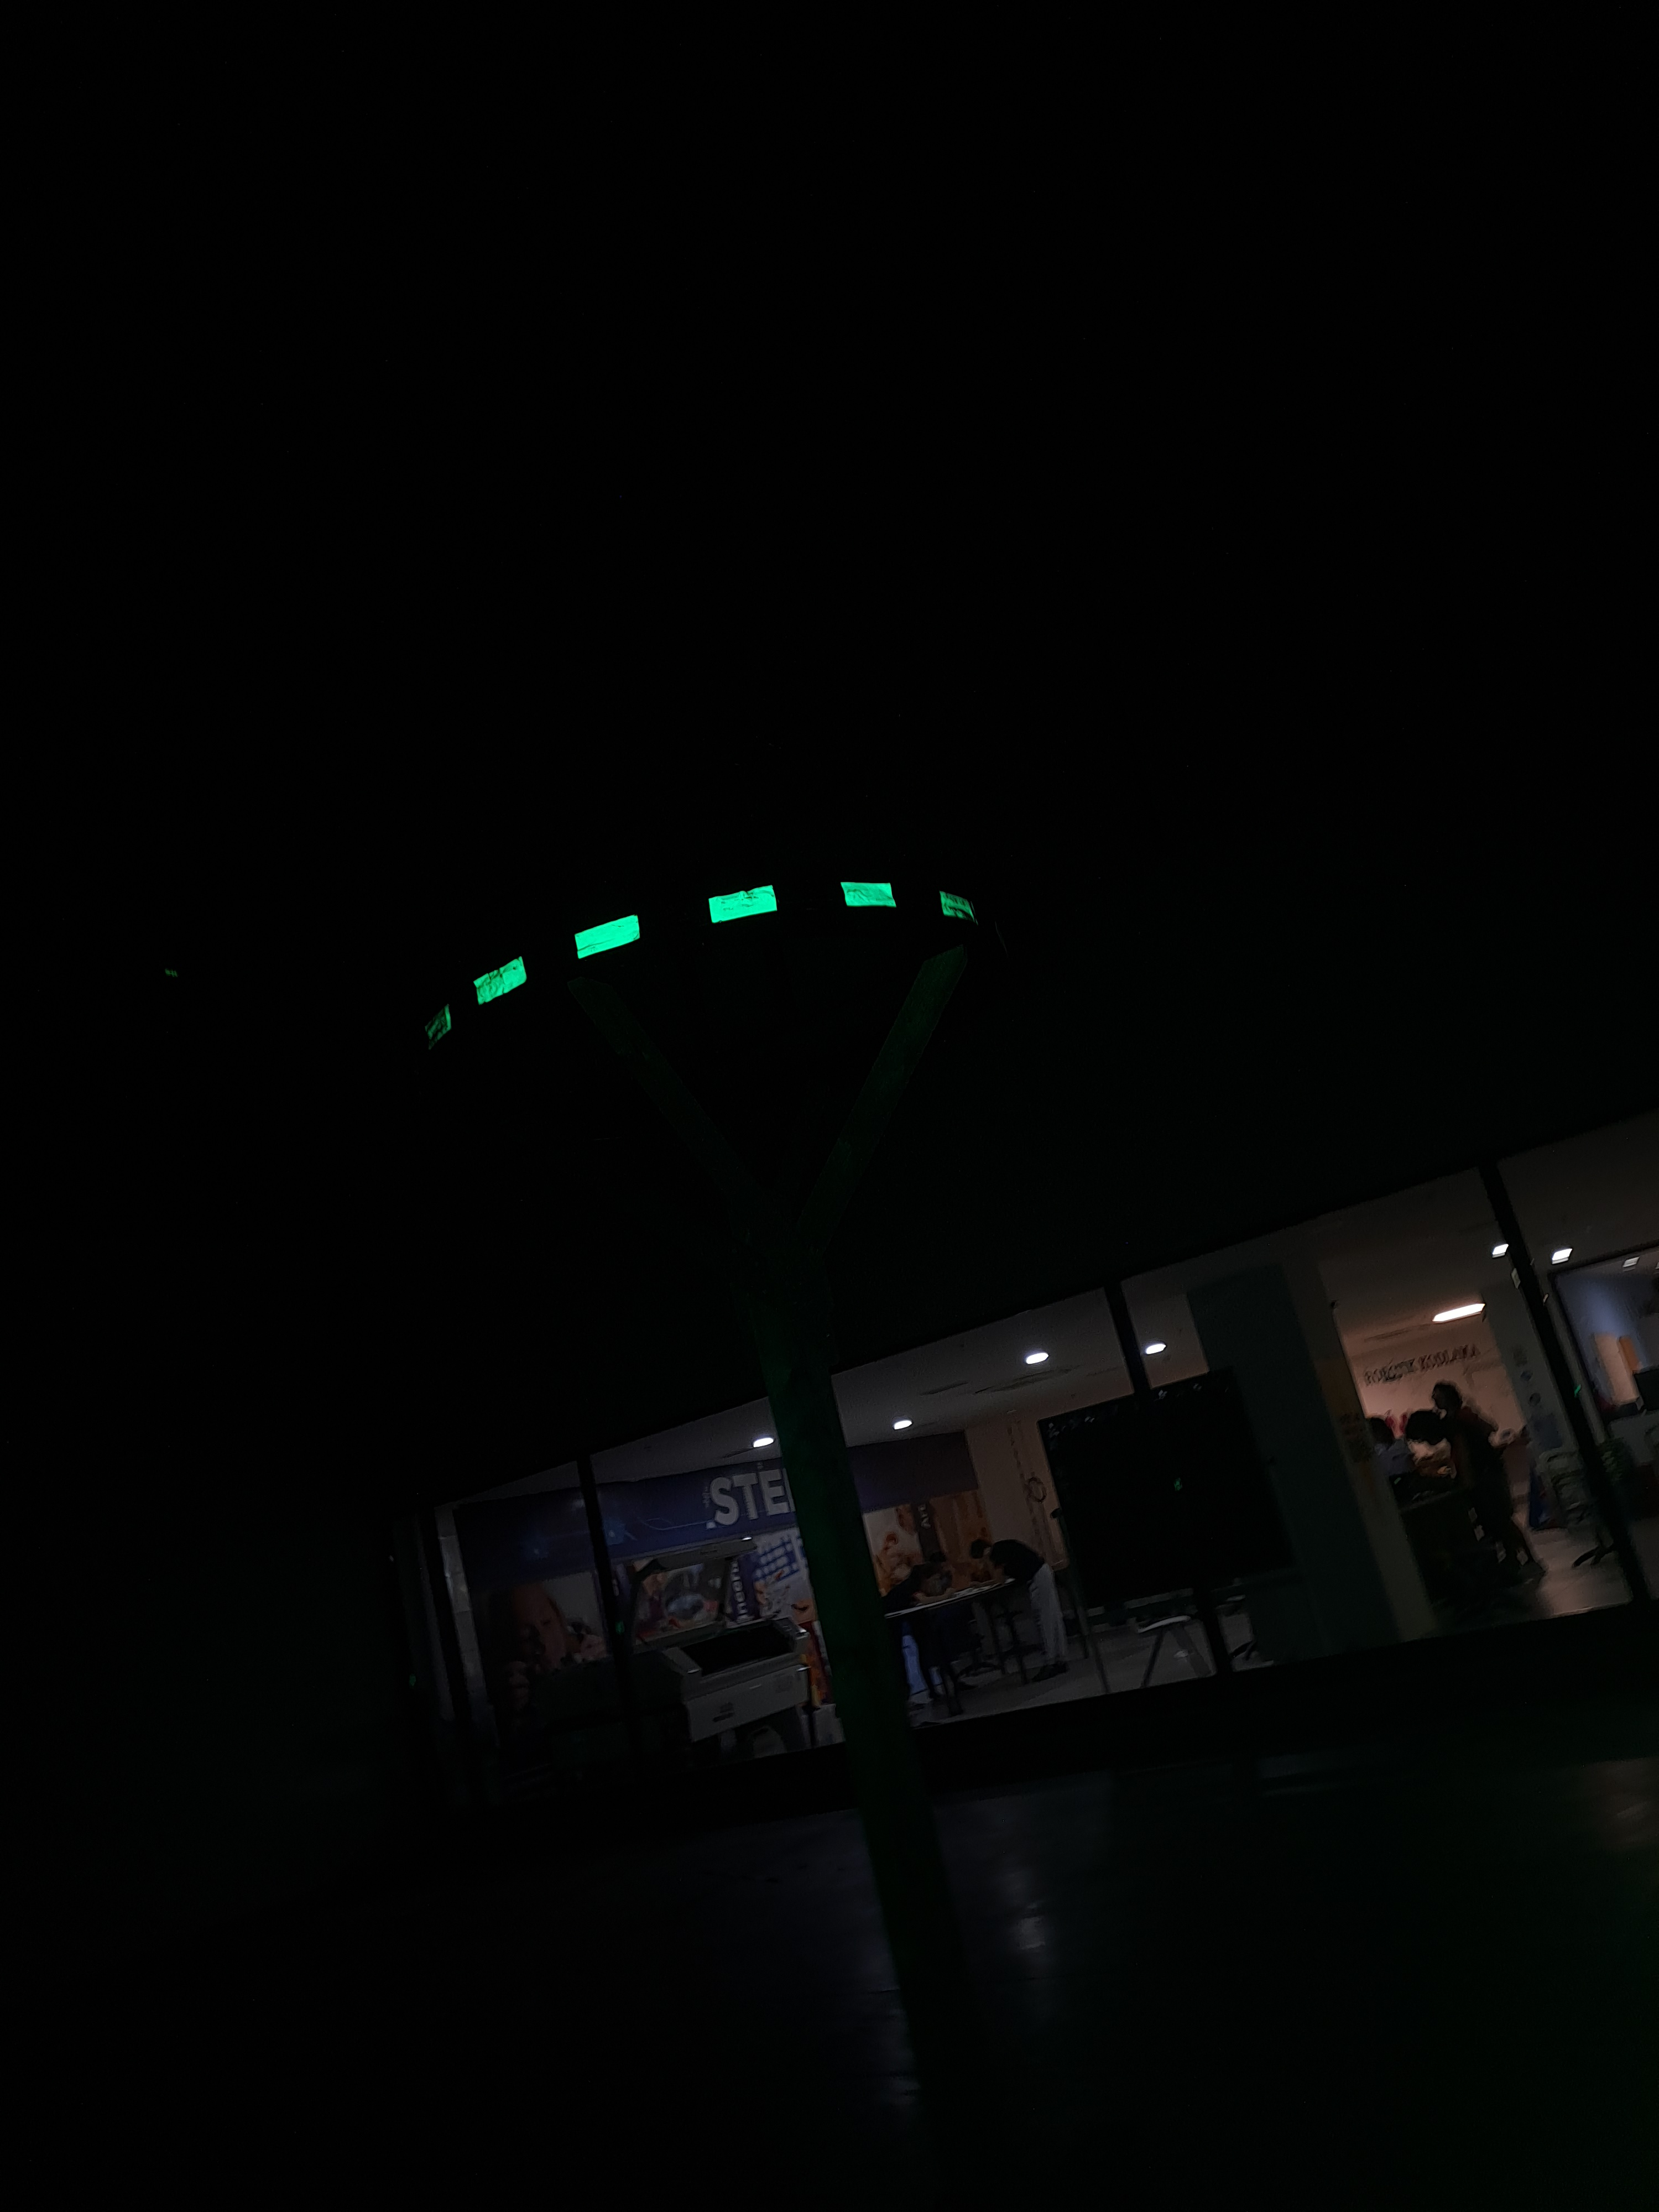hoop: (418, 880, 983, 1045)
